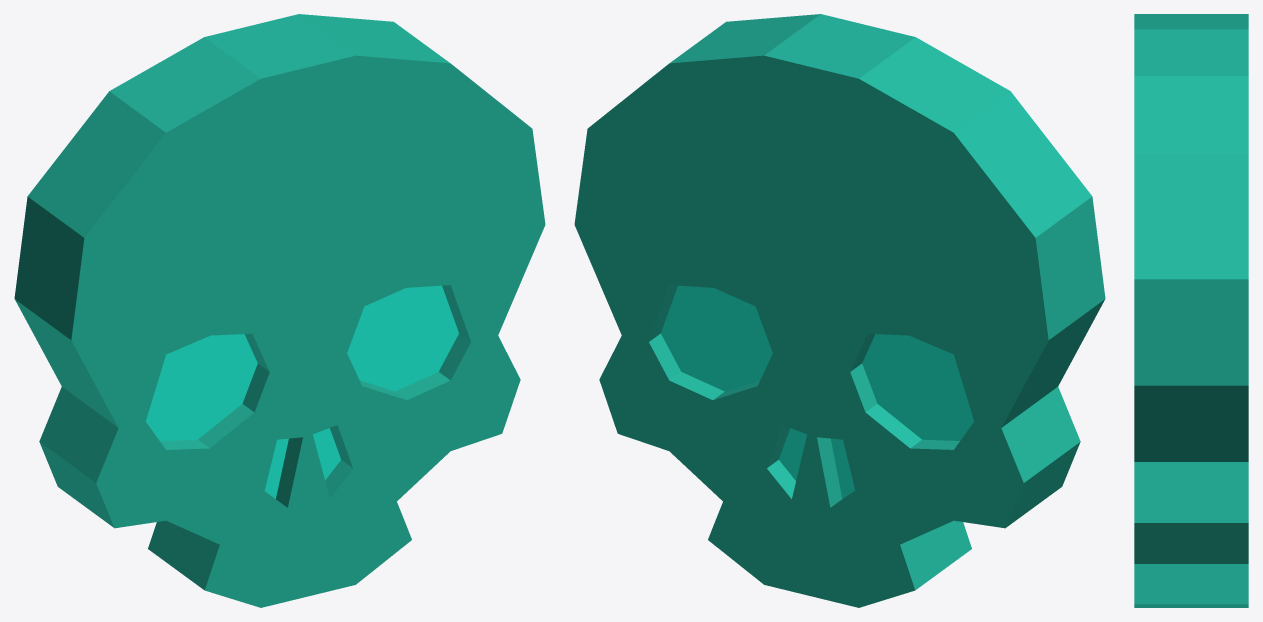
File: Skull.fbx
The picture shows the model from 3 angles, left to right: view 1: azimuth 30°, elevation 25°; view 2: azimuth 150°, elevation 25°; view 3: azimuth 270°, elevation 25°; orthographic projection.
Parts seen in each view (by area): view 1: Skull; view 2: Skull; view 3: Skull.
Part boxes in pixels (x1,y1,x2,y2): Skull: [14, 14, 545, 607]; Skull: [574, 14, 1105, 607]; Skull: [1134, 14, 1248, 607].
Size of the model in its own units: 164 by 175 by 34.11.
